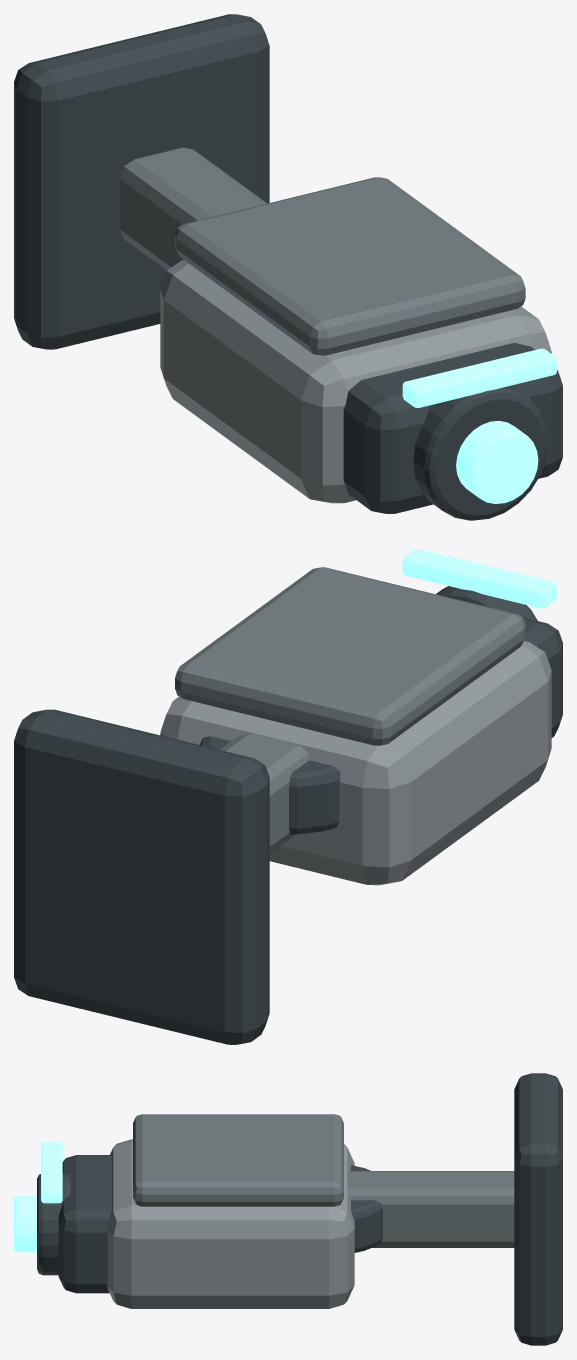
Rendered from SecurityCamera_A.fbx.
3 views of the same model, one above another, from view 1: azimuth 30°, elevation 25°; view 2: azimuth 150°, elevation 25°; view 3: azimuth 270°, elevation 25° (orthographic). The views are drawn at different scales.
Parts seen in each view (by area): view 1: Camera Wall Plate, Camera Top Armor, Camera Housing, Camera Sensor Hood, Camera Support Arm, Camera Lens Bezel, Camera_Lens, Camera Status Strip; view 2: Camera Wall Plate, Camera Top Armor, Camera Housing, Camera Status Strip, Camera Pan Collar, Camera Support Arm, Camera Sensor Hood, Camera Lens Bezel; view 3: Camera Housing, Camera Top Armor, Camera Wall Plate, Camera Support Arm, Camera Sensor Hood, Camera Lens Bezel, Camera Pan Collar, Camera Status Strip, Camera_Lens.
Boxes of the visible parts, x1,y1,x2,y2 form: Camera Wall Plate: (14,14,269,349); Camera Top Armor: (175,177,525,355); Camera Housing: (160,260,551,503); Camera Sensor Hood: (343,342,562,513); Camera Support Arm: (119,147,266,270); Camera Lens Bezel: (413,385,548,520); Camera_Lens: (456,420,538,503); Camera Status Strip: (402,348,556,407); Camera Wall Plate: (14,709,269,1044); Camera Top Armor: (175,567,525,745); Camera Housing: (160,641,551,885); Camera Status Strip: (402,549,556,608); Camera Pan Collar: (200,736,340,834); Camera Support Arm: (220,733,308,853); Camera Sensor Hood: (522,617,562,737); Camera Lens Bezel: (436,586,537,620); Camera Housing: (107,1139,354,1308); Camera Top Armor: (133,1114,343,1206); Camera Wall Plate: (514,1073,562,1345); Camera Support Arm: (347,1171,514,1247); Camera Sensor Hood: (58,1155,111,1293); Camera Lens Bezel: (37,1173,71,1275); Camera Pan Collar: (351,1165,382,1252); Camera Status Strip: (41,1142,62,1203); Camera_Lens: (14,1196,36,1252).
Bounding box in the file's own units: 0.76 × 0.82 × 2.03.
